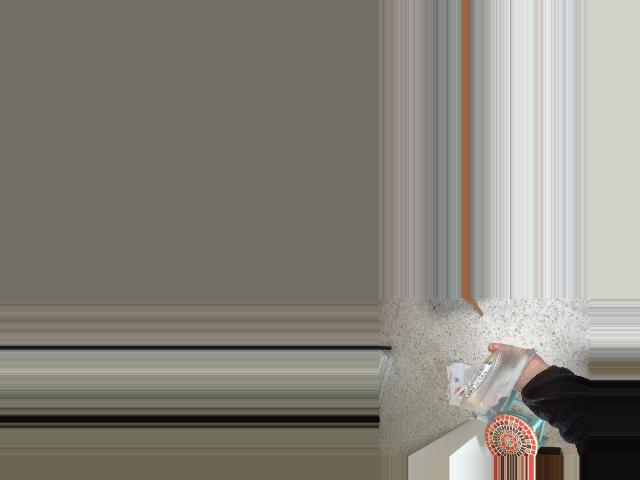cheese: (438, 337, 541, 446)
